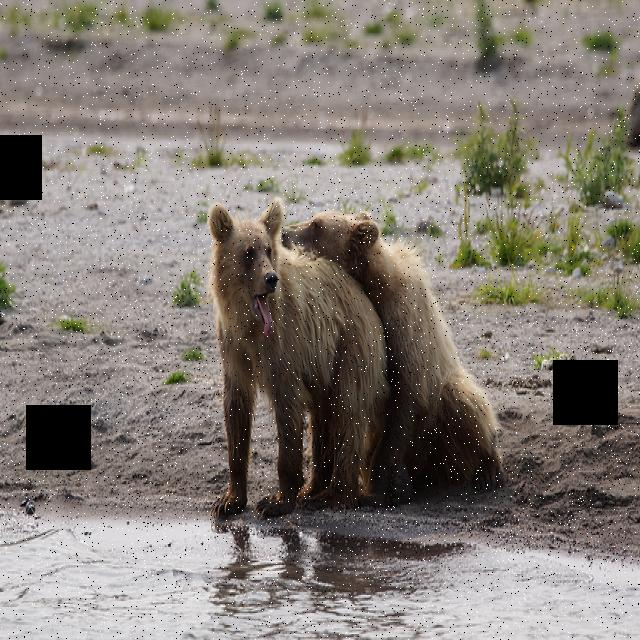Bear: (278, 179, 508, 498), (195, 198, 390, 527)
